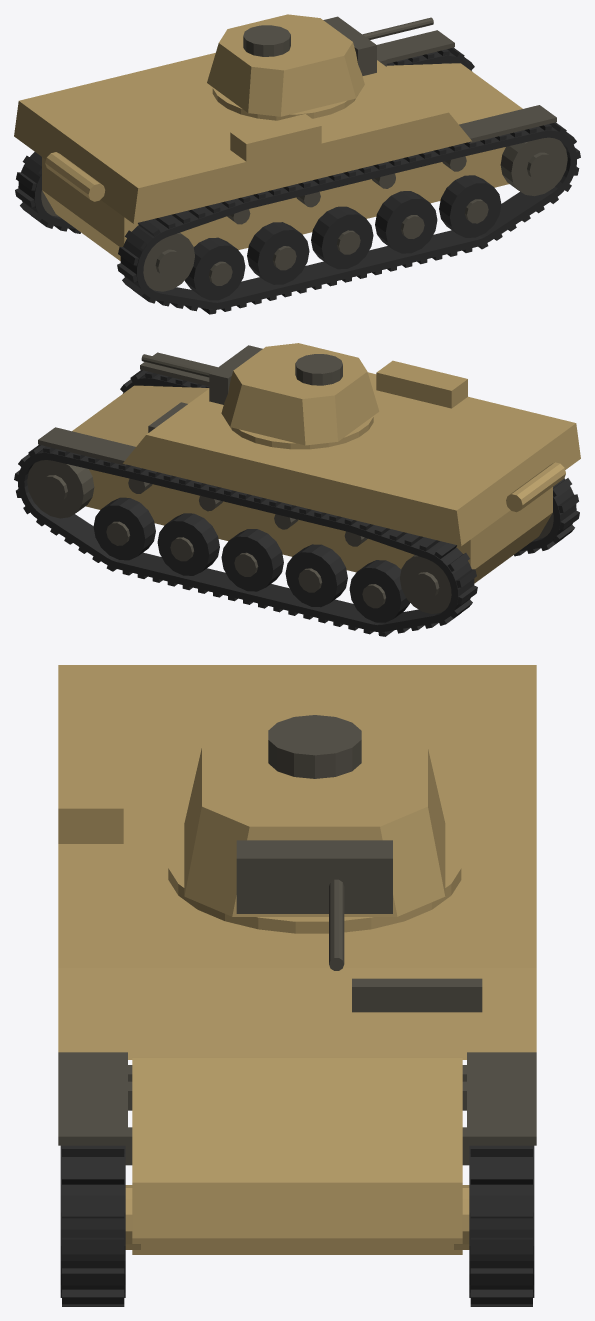
File: de_panzer_ii.obj
3 renders of one model, top to bottom at view 1: azimuth 30°, elevation 25°; view 2: azimuth 150°, elevation 25°; view 3: azimuth 270°, elevation 25°, orthographic. The views are drawn at different scales.
Bounding box in the file's own units: 4.92 × 2.08 × 2.2.
